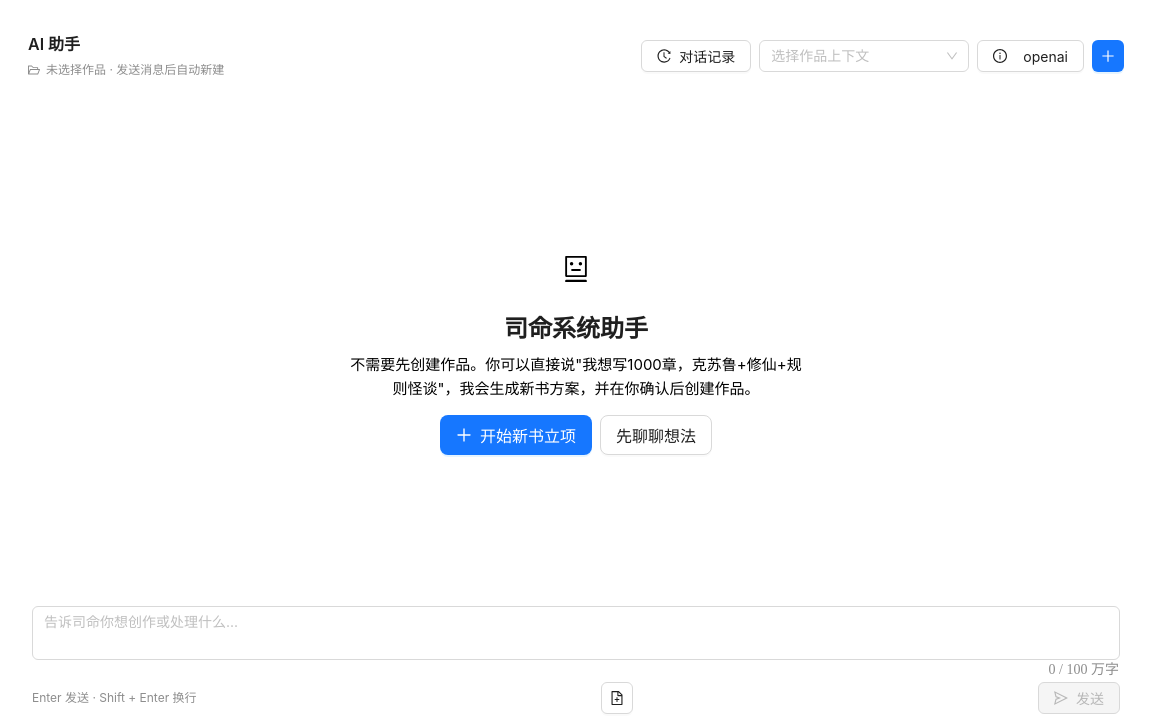
Test: GuiAssistantChat new-book handoff › makes the current conversation model visible
The image size is (1152, 720).
Click the button with aria-label "查看当前模型与运行状态". click: (1031, 56)
box: top-left (977, 40), bottom-right (1084, 72)
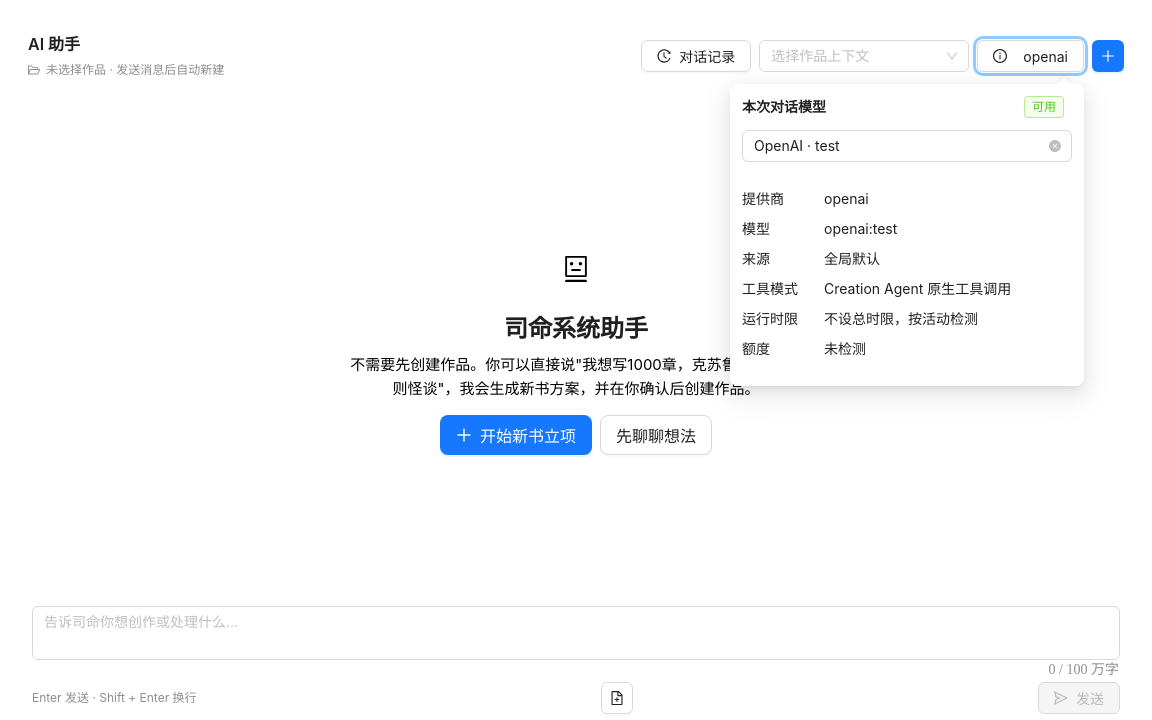
Expected: the dropdown named "选择本次对话模型" is shown, top-left (754, 131), bottom-right (1042, 161)
Expected: the text "OpenAI · test" is shown, top-left (754, 137), bottom-right (840, 154)
